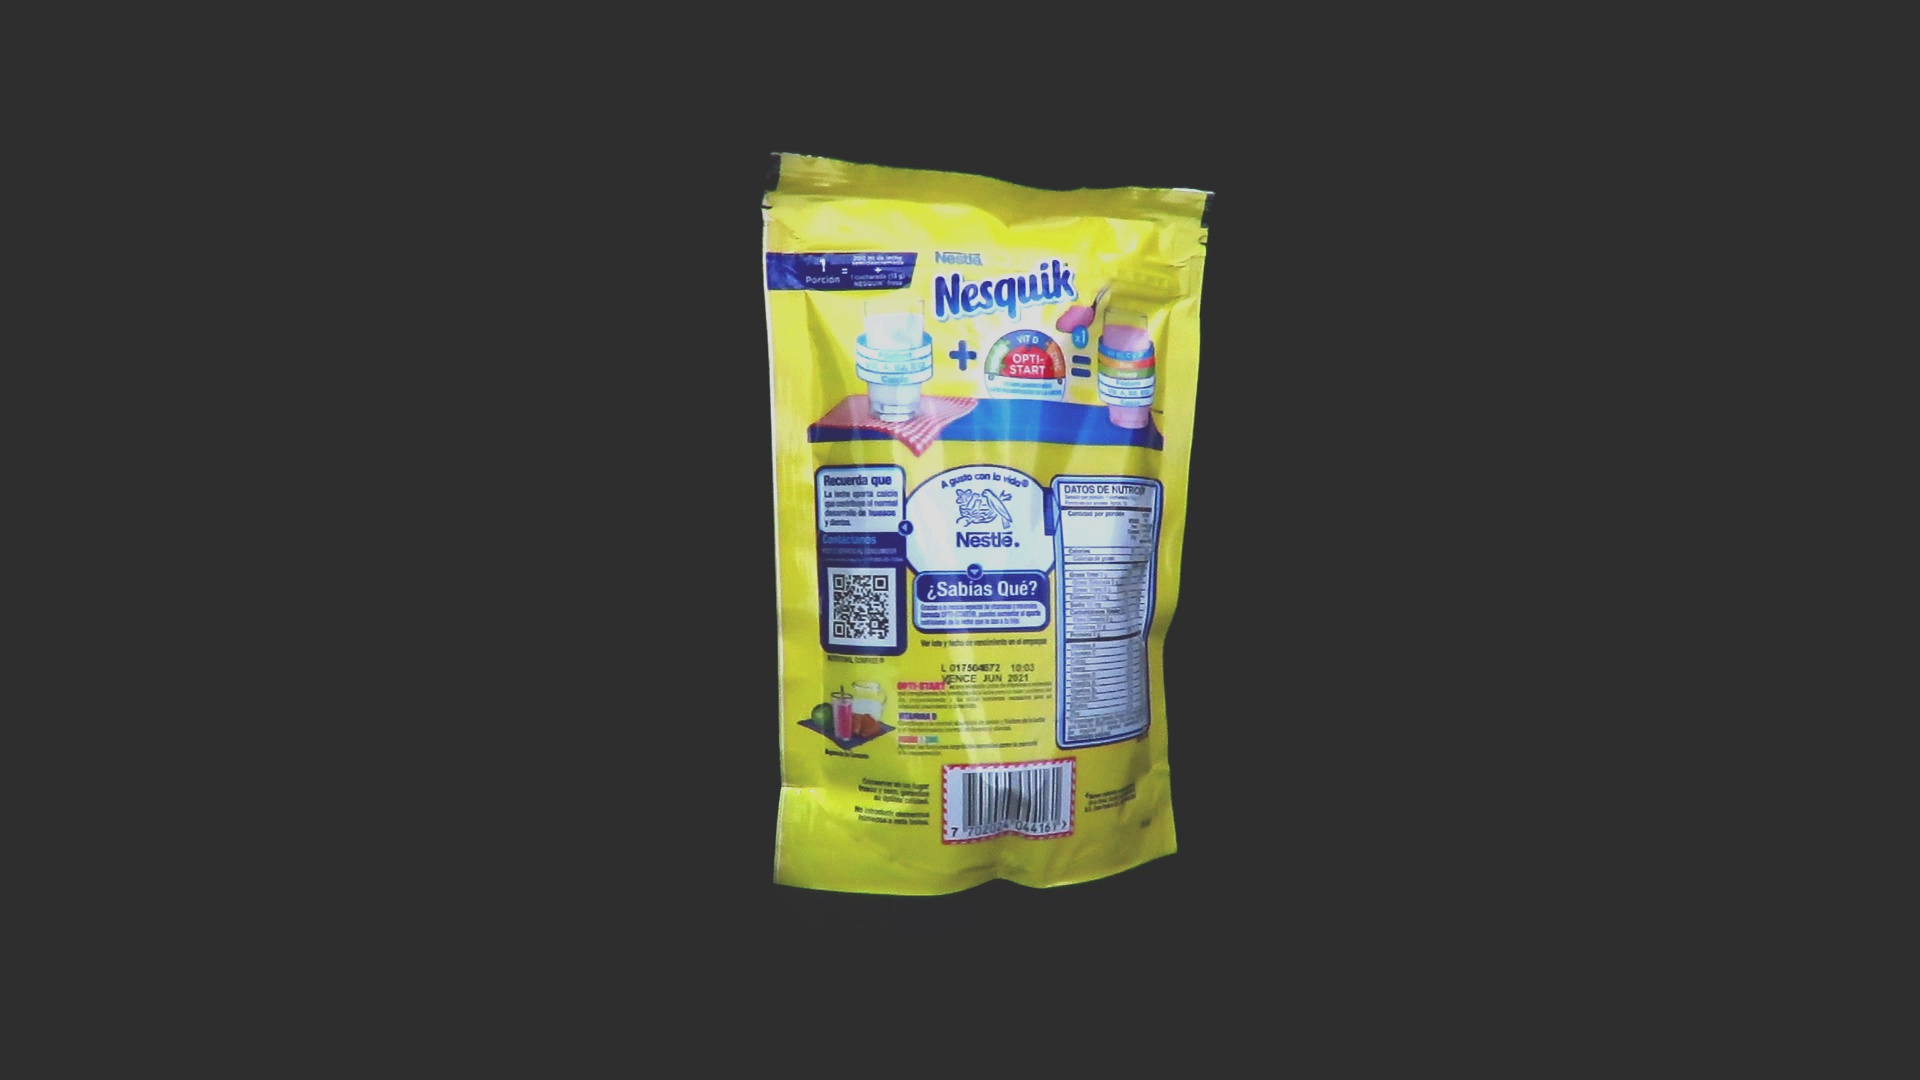COL0170305DYP20000: (756, 146, 1221, 902)
